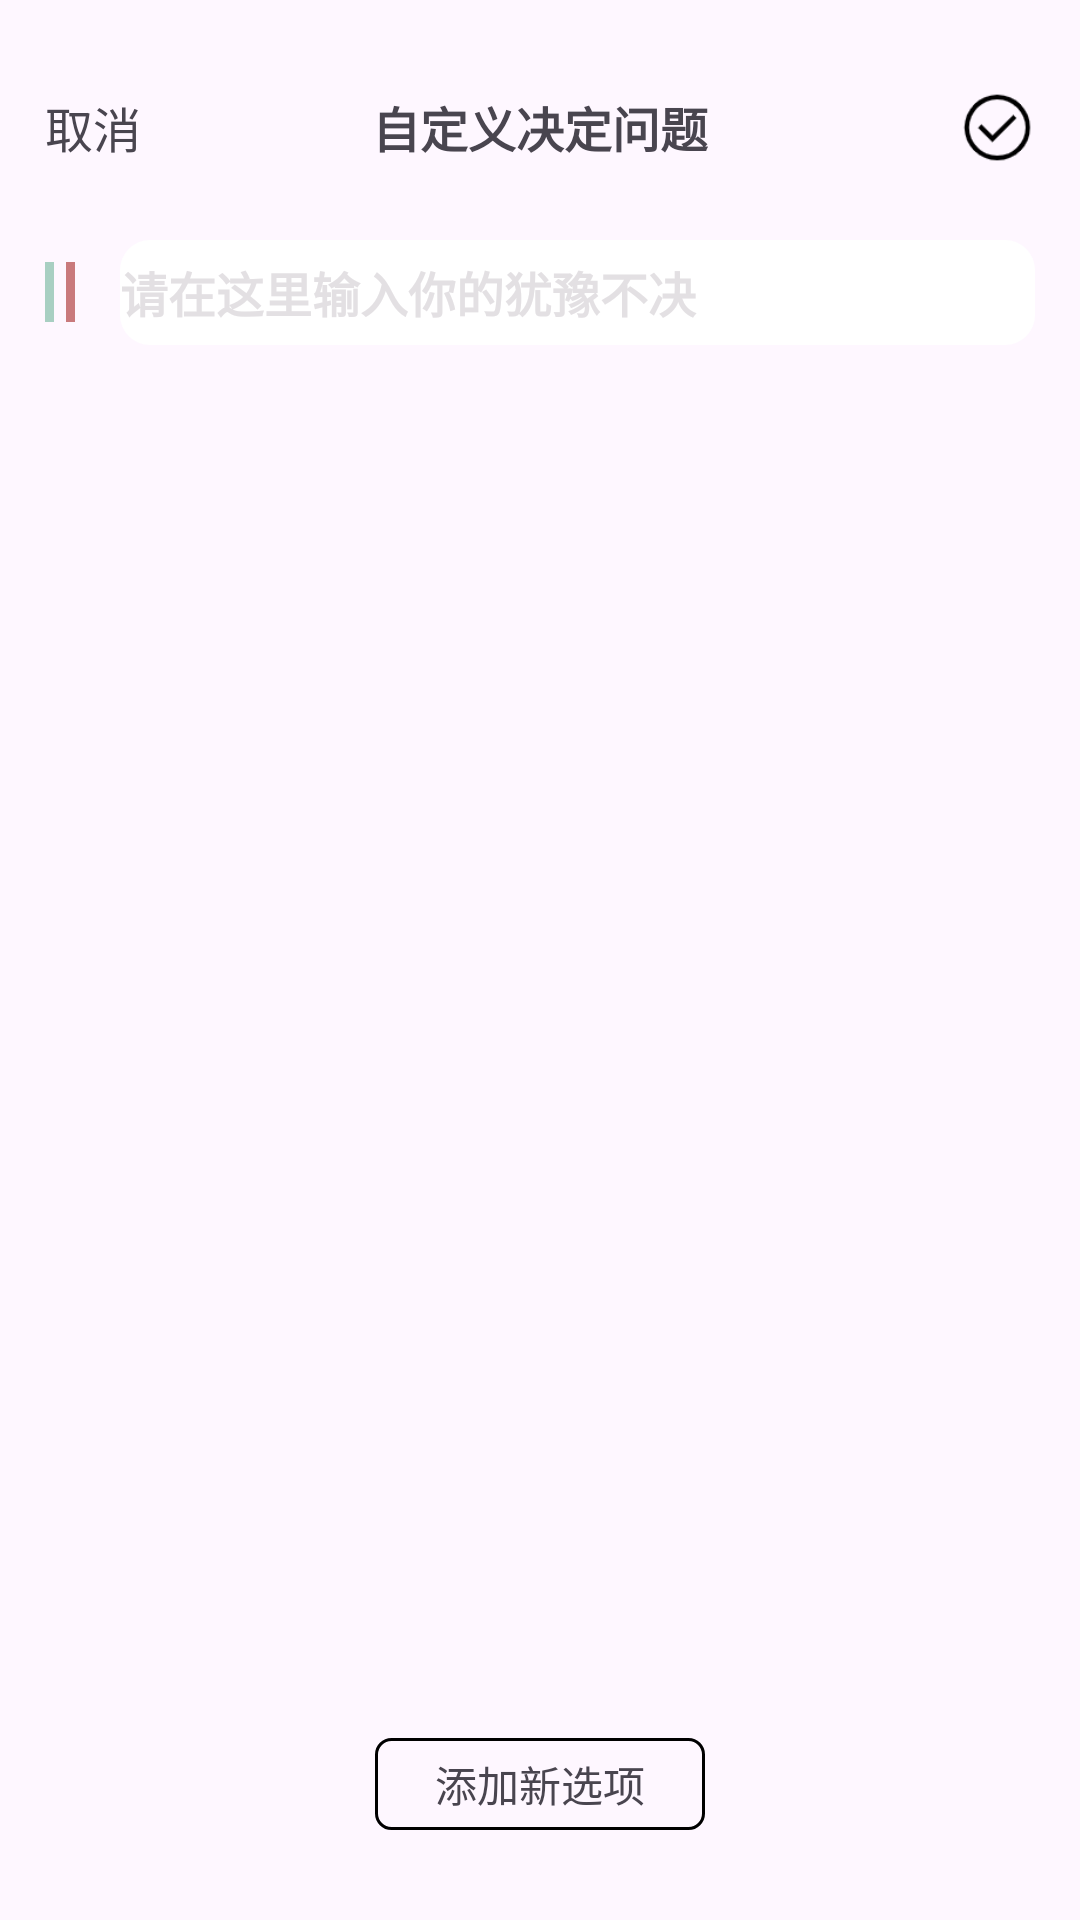

Named icons in this screenshot (1080px x 1920px) and their bounding boxes, (x1, y1, x2, y2):
yuan dui: (964, 94, 1031, 161)
